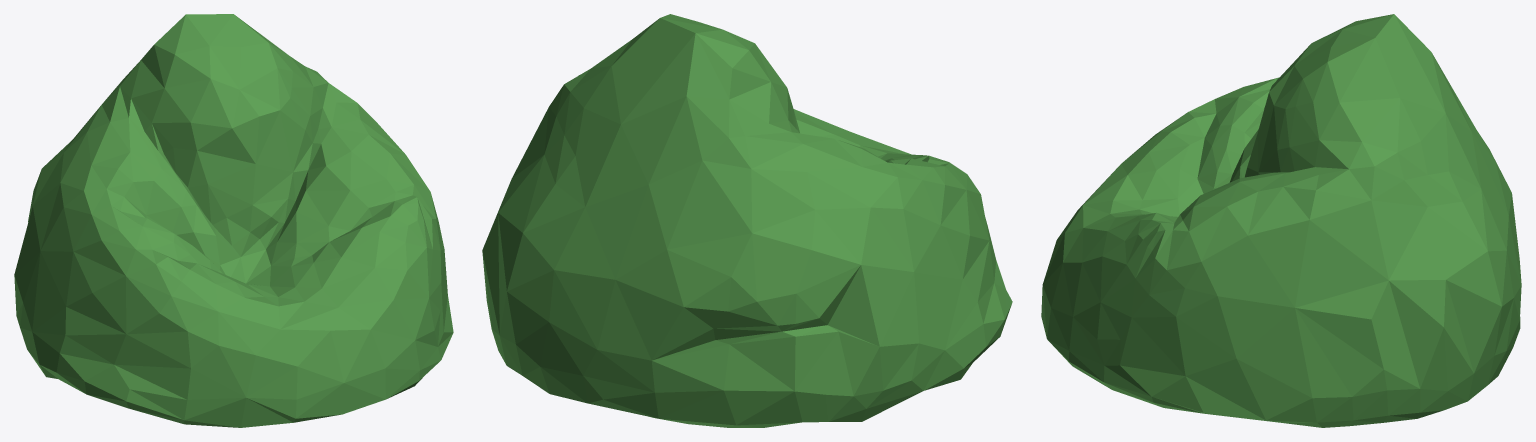
File: Int_Pouf02_4.fbx
The picture shows the model from 3 angles, left to right: view 1: azimuth 30°, elevation 25°; view 2: azimuth 150°, elevation 25°; view 3: azimuth 270°, elevation 25°; orthographic projection. The views are drawn at different scales.
Parts seen in each view (by area): view 1: Int_Pouf02_4; view 2: Int_Pouf02_4; view 3: Int_Pouf02_4.
Boxes of the visible parts, <box> form: Int_Pouf02_4: <box>14,14,453,427</box>; Int_Pouf02_4: <box>482,14,1012,427</box>; Int_Pouf02_4: <box>1041,14,1521,427</box>.
Size of what is drawn, in the model's own units: 137 by 139 by 104.
